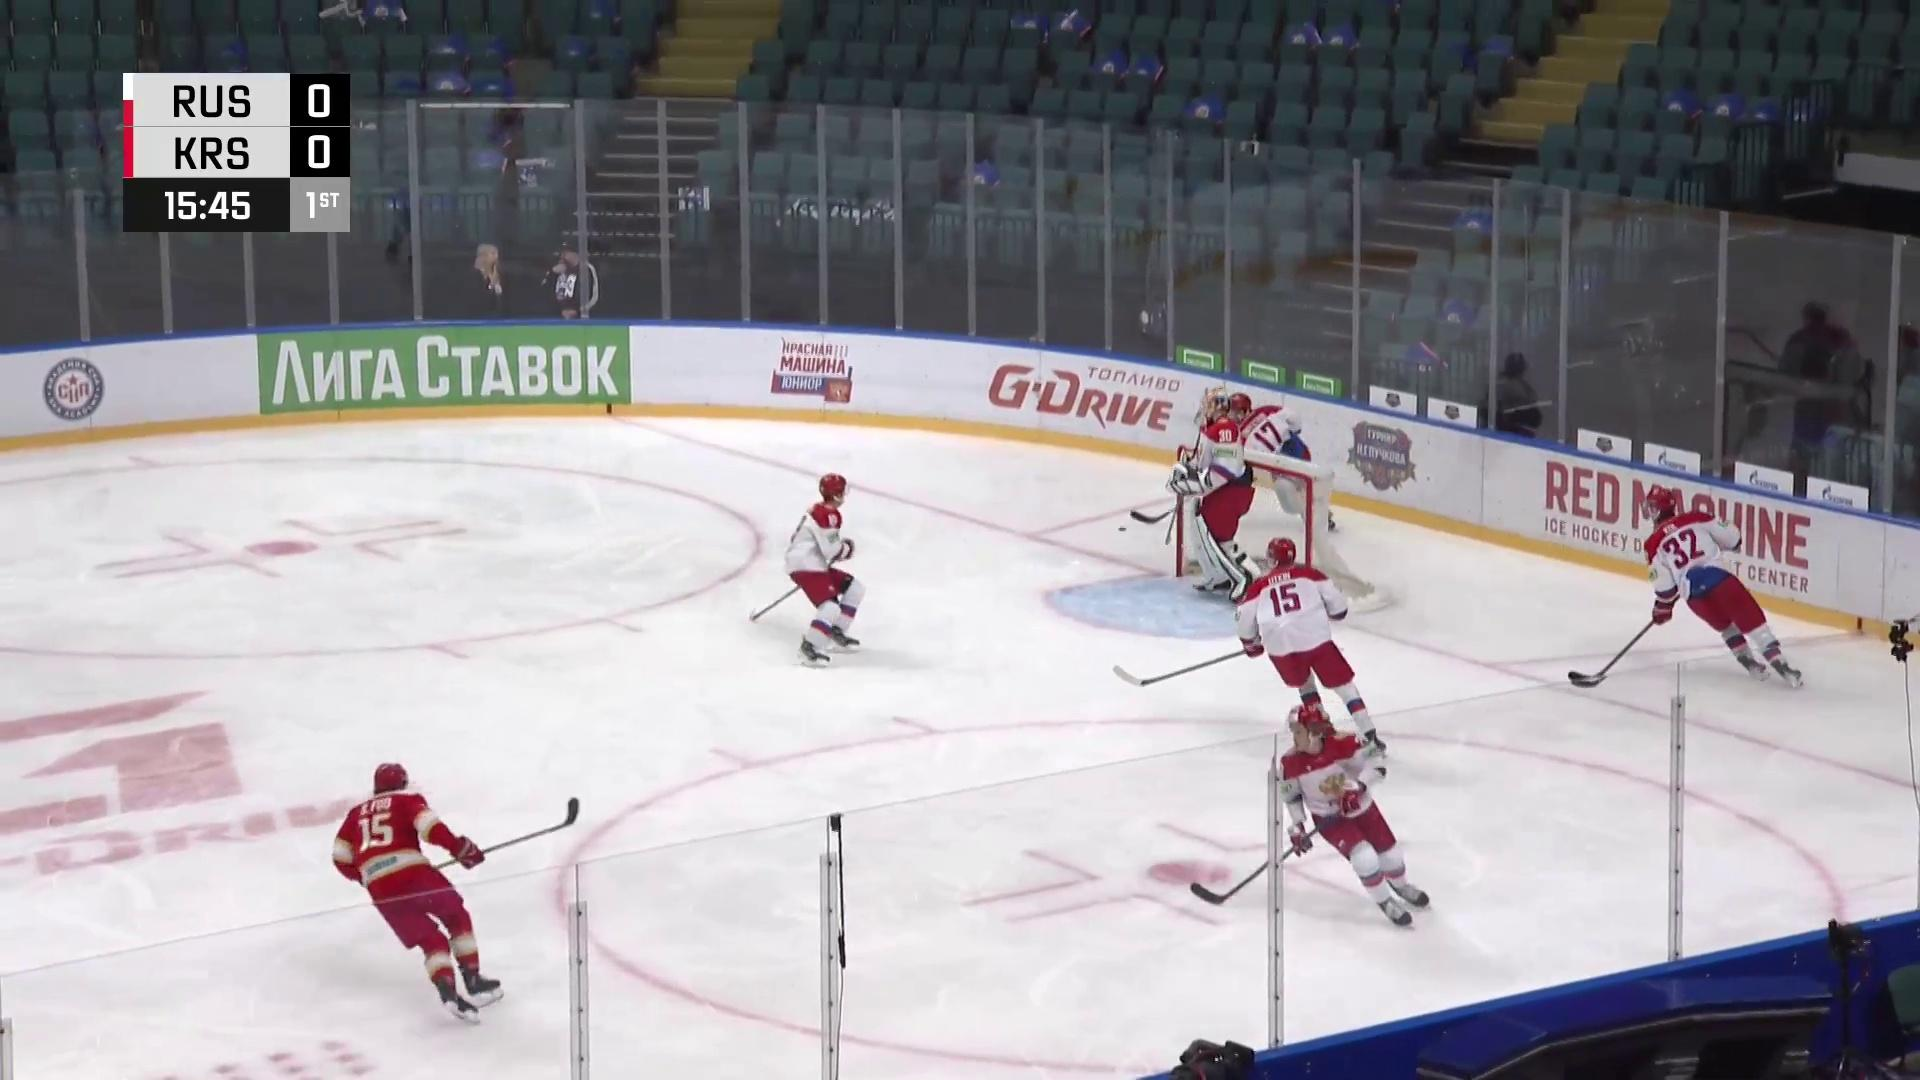ball: (1117, 525, 1127, 533)
